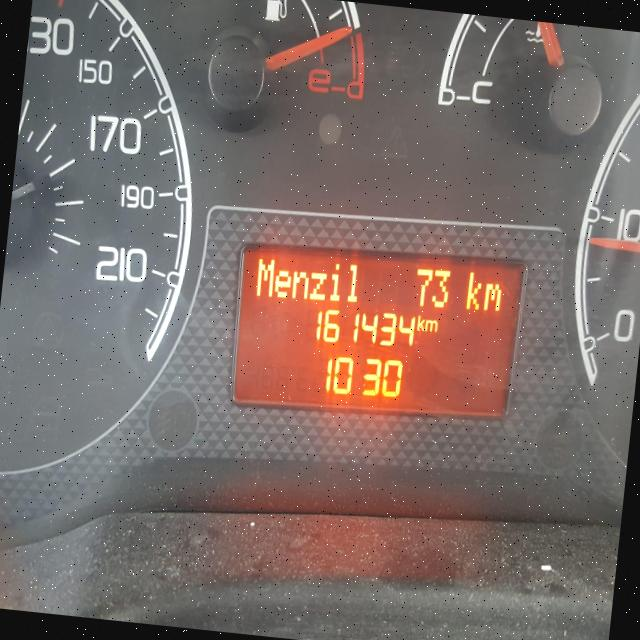odometer: (218, 227, 532, 438)
